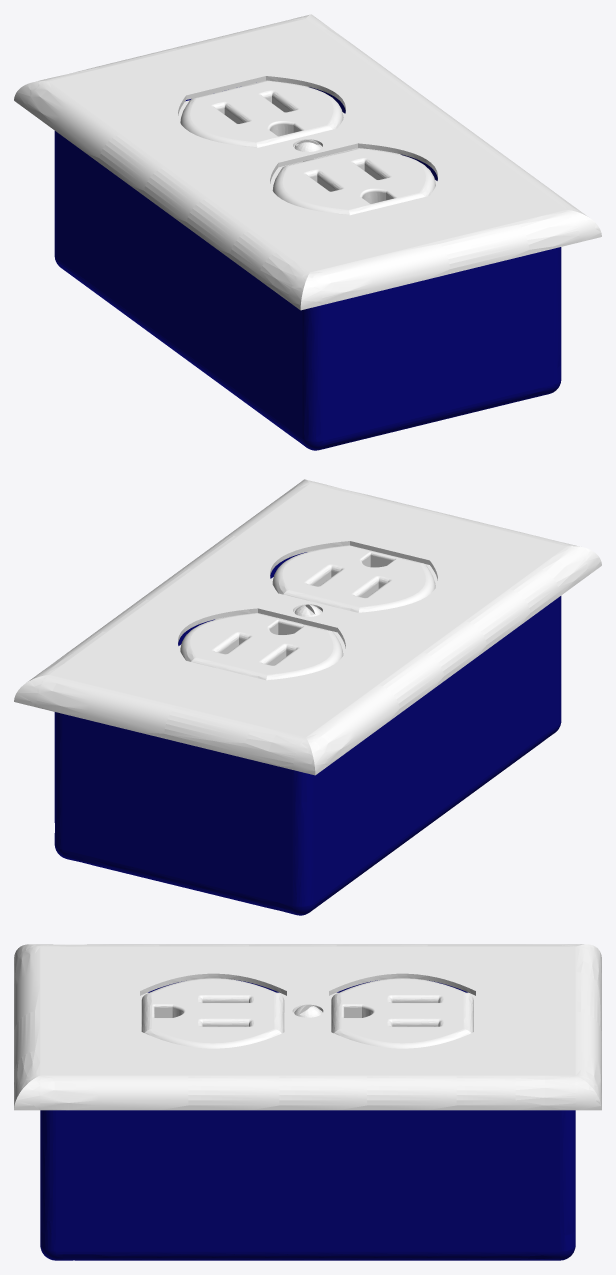
Rendered from powerSocket.FBX.
3 renders of one model, top to bottom at view 1: azimuth 30°, elevation 25°; view 2: azimuth 150°, elevation 25°; view 3: azimuth 270°, elevation 25°, orthographic. The views are drawn at different scales.
Parts seen in each view (by area): view 1: plate, box, outlet; view 2: plate, box, outlet; view 3: box, plate, outlet.
Boxes of the visible parts, box(x1,y1,x2,y2) form: plate: box(14, 14, 601, 310); box: box(54, 87, 561, 450); outlet: box(178, 80, 437, 215); plate: box(14, 479, 601, 775); box: box(54, 552, 561, 915); outlet: box(178, 545, 437, 680); box: box(40, 980, 575, 1260); plate: box(14, 944, 601, 1110); outlet: box(140, 978, 475, 1048).
Bounding box in the file's own units: 1727 × 1040 × 2845.
